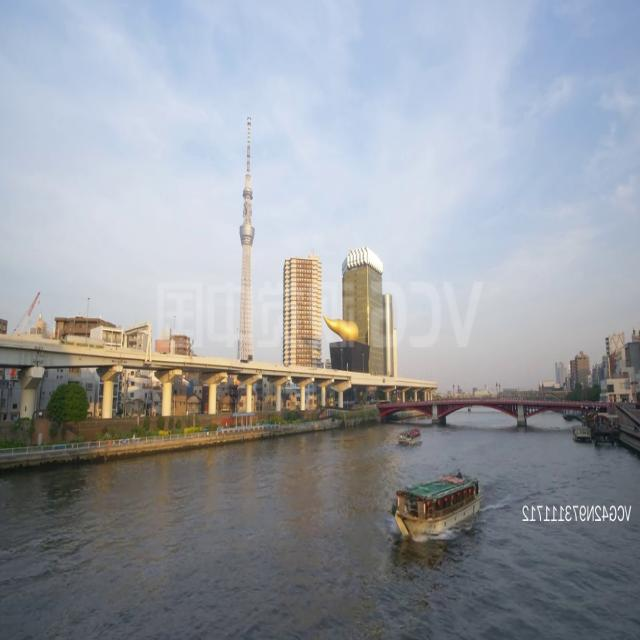houseboat: (386, 464, 486, 570)
